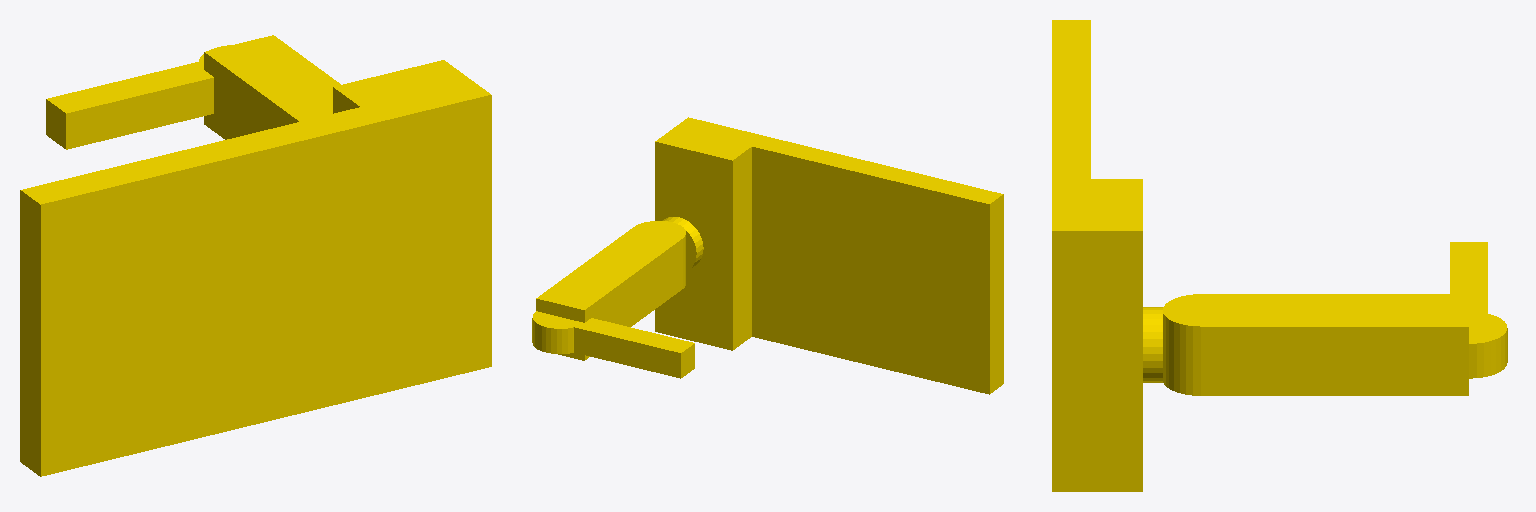
robot.urdf — rover_crane:
<?xml version="1.0" ?>
<robot name="rover_crane">

    <material name="gold">
        <color rgba="1 0.882 0 1"/>
    </material>

    <link name="ground"/>

    <link name="rover_base_link">        
        <visual>
            <origin xyz="0 0 0.125" rpy="0 0 0" />
            <geometry>
               <box size="2.6 1.5 0.2"/>
            </geometry>
            <material name="gold"/>
        </visual>
        <collision>
            <origin xyz="0 0 0.125" rpy="0 0 0" />
            <geometry>
                <box size="2.6 1.5 0.2"/>
            </geometry>
        </collision>

        <visual>
            <!-- 1.3 - 0.32 -->
            <origin xyz=".98 0 0.35" rpy="0 0 0" />
            <geometry>
               <box size="0.64 1.5 0.3"/>
            </geometry>
            <material name="gold"/>
        </visual>
        <collision>
            <origin xyz=".98 0 0.35" rpy="0 0 0" />
            <geometry>
                <box size="0.64 1.5 0.3"/>
            </geometry>
        </collision>  
    </link>
    
    <joint name="world_rotate" type="fixed">
        <parent link="ground"/>
        <child link="rover_base_link"/>
        <origin xyz="0 0 0" rpy="-1.5708 0 0"/>
    </joint>

    <link name="crane_base_link"/>

    <joint name="fix_to_chassis" type="fixed">
        <parent link="rover_base_link"/>
        <child link="crane_base_link"/>
        <origin xyz="1.1 0 0.5" rpy="0 0 0"/>
    </joint>

    <link name="crane_yaw">
        <visual>
            <origin xyz="0 0 0.05" rpy="0 0 0" />
            <geometry>
               <cylinder length="0.1" radius="0.2"/>
            </geometry>
            <material name="gold"/>
        </visual>
        <collision>
            <origin xyz="0 0 0.05" rpy="0 0 0" />
            <geometry>
                <cylinder length="0.1" radius="0.2"/>
            </geometry>
        </collision>    
    </link>
    
    <joint name="joint0_1" type="revolute">
        <parent link="crane_base_link"/>
        <child link="crane_yaw"/>
        <origin xyz="0 0 0" rpy="0 0 0"/>
        <axis xyz="0 0 1"/>
        <limit lower="-0.523599" upper="0.523599" effort="0" velocity="0"/>
    </joint>

    <link name="crane_link1">
        <visual>
            <origin xyz="0 0 0" rpy="1.5708 0 0" />
            <geometry>
               <cylinder length="0.4" radius="0.2"/>
            </geometry>
            <material name="gold"/>
        </visual>
        <collision>
            <origin xyz="0 0 0" rpy="1.5708 0 0" />
            <geometry>
                <cylinder length="0.4" radius="0.2"/>
            </geometry>
        </collision>  

        <visual>
            <origin xyz="-0.7 0 0" rpy="0 0 0" />
            <geometry>
               <box size="1.4 0.4 0.4"/>
            </geometry>
            <material name="gold"/>
        </visual>
        <collision>
            <origin xyz="-0.7 0 0" rpy="0 0 0" />
            <geometry>
                <box size="1.4 0.4 0.4"/>
            </geometry>
        </collision>
    </link>


    <joint name="joint0_2" type="revolute">
        <parent link="crane_yaw"/> 
        <child link="crane_link1"/>
        <origin xyz="0 0 0.3" rpy="0 1.5708 0"/>
        <axis xyz="0 1 0"/>
        <limit lower="0.0" upper="1.5708" effort="0" velocity="0"/>
    </joint>


    <link name="crane_link2">
        <visual>
            <origin xyz="0.55 0 0" rpy="0 0 0" />
            <geometry>
               <box size="1.1 0.35 0.35"/>
            </geometry>
            <material name="gold"/>
        </visual>
        <collision>
            <origin xyz="0.55 0 0" rpy="0 0 0" />
            <geometry>
                <box size="1.1 0.35 0.35"/>
            </geometry>
        </collision>
    </link>

    <joint name="joint0_3" type="prismatic">
        <parent link="crane_link1"/>
        <child link="crane_link2"/>
        <origin xyz="-1.4 0 0" rpy="0 0 0"/>
        <axis xyz="-1 0 0"/>
        <limit lower="0.0" upper="1.1" effort="0" velocity="0"/>
    </joint>

    <link name="crane_link3">
        <visual>
            <origin xyz="0.55 0 0" rpy="0 0 0" />
            <geometry>
               <box size="1.1 0.3 0.3"/>
            </geometry>
            <material name="gold"/>
        </visual>
        <collision>
            <origin xyz="0.55 0 0" rpy="0 0 0" />
            <geometry>
                <box size="1.1 0.3 0.3"/>
            </geometry>
        </collision>
    </link>

    <joint name="joint0_4" type="prismatic">
        <parent link="crane_link2"/>
        <child link="crane_link3"/>
        <origin xyz="0 0 0" rpy="0 0 0"/>
        <axis xyz="-1 0 0"/>
        <limit lower="0.0" upper="1.1" effort="0" velocity="0"/>
    </joint>

    <link name="crane_link4">
        <visual>
            <origin xyz="0.55 0 0" rpy="0 0 0" />
            <geometry>
               <box size="1.1 0.25 0.25"/>
            </geometry>
            <material name="gold"/>
        </visual>
        <collision>
            <origin xyz="0.55 0 0" rpy="0 0 0" />
            <geometry>
                <box size="1.1 0.25 0.25"/>
            </geometry>
        </collision>
    </link>

    <joint name="joint0_5" type="prismatic">
        <parent link="crane_link3"/>
        <child link="crane_link4"/>
        <origin xyz="0 0 0" rpy="0 0 0"/>
        <axis xyz="-1 0 0"/>
        <limit lower="0.0" upper="1.1" effort="0" velocity="0"/>
    </joint>

    <link name="tip">
        <visual>
            <origin xyz="0 0 0" rpy="1.5708 0 0" />
            <geometry>
               <cylinder length="0.2" radius="0.2"/>
            </geometry>
            <material name="gold"/>
        </visual>
        <collision>
            <origin xyz="0 0 0" rpy="1.5708 0 0" />
            <geometry>
               <cylinder length="0.2" radius="0.2"/>
            </geometry>
            <material name="gold"/>
        </collision>
        
        <visual>
            <!-- 0.5 + 0.054 -->
            <origin xyz="0 0 -0.554" rpy="0 0 0" />
            <geometry>
               <box size="0.2 0.2 1.0"/>
            </geometry>
            <material name="gold"/>
        </visual>
        <collision>
            <origin xyz="0 0 -0.554" rpy="0 0 0" />
            <geometry>
               <box size="0.2 0.2 1.0"/>
            </geometry>
            <material name="gold"/>
        </collision>
    </link>

    <joint name="tip_joint" type="revolute">
        <parent link="crane_link4"/>
        <child link="tip"/>
        <origin xyz="0 0 0" rpy="0 0 0"/>
        <axis xyz="0 1 0"/>
        <limit lower="0.0" upper="1.1" effort="0" velocity="0"/>
    </joint>

</robot>

--- What the picture shows (computed from the rendered views, not written in the file) ---
Views: 3 orthographic renders of the robot side by side, from view 1: azimuth 30°, elevation 25°; view 2: azimuth 150°, elevation 25°; view 3: azimuth 270°, elevation 25°.
Model rover_crane with 9 links and 8 joints (3 revolute, 3 prismatic, 2 fixed), rooted at ground, posed every joint at zero.
Links seen in each view (by area): view 1: rover_base_link, crane_link1, tip; view 2: rover_base_link, crane_link1, tip, crane_yaw; view 3: rover_base_link, crane_link1, tip, crane_yaw.
Link boxes in pixels (box(x1,y1,x2,y2)): rover_base_link: box(20, 60, 491, 476); crane_link1: box(204, 35, 340, 139); tip: box(46, 45, 230, 149); rover_base_link: box(655, 117, 1003, 394); crane_link1: box(536, 221, 685, 360); tip: box(532, 311, 694, 378); crane_yaw: box(662, 217, 703, 271); rover_base_link: box(1052, 20, 1142, 491); crane_link1: box(1163, 294, 1468, 395); tip: box(1450, 242, 1507, 378); crane_yaw: box(1143, 307, 1162, 382).
Bounding box of the posed robot: 2.6 × 2.38 × 1.5 m (x, y, z).
Geometry: primitives only (box / cylinder / sphere), no mesh files.